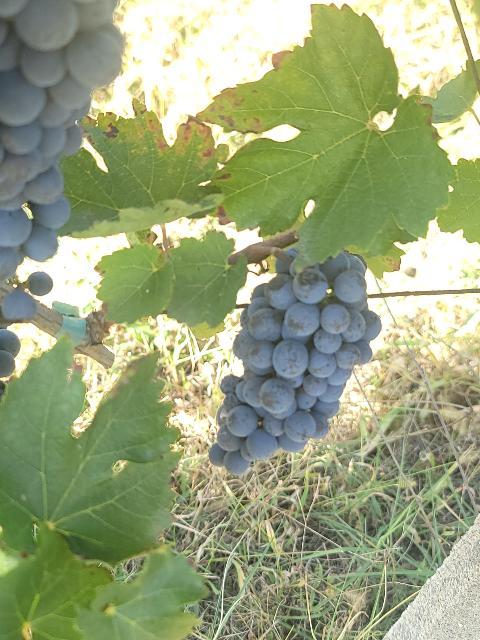grapes: (209, 248, 381, 475), (0, 272, 52, 378)
